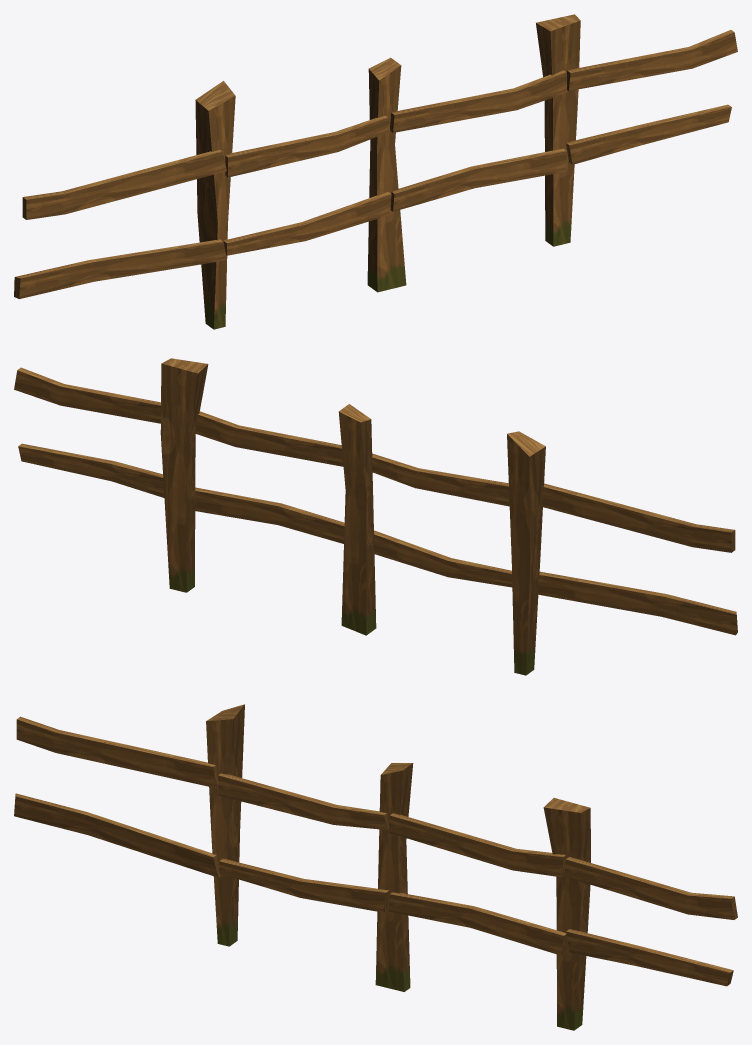
The model's file is fenceOpen.fbx.
3 views of the same model, one above another, from view 1: azimuth 30°, elevation 25°; view 2: azimuth 150°, elevation 25°; view 3: azimuth 330°, elevation 25° (orthographic).
Visible parts, largest first — view 1: FenceOpen; view 2: FenceOpen; view 3: FenceOpen.
Part boxes in pixels (left/top/right/bottom): FenceOpen: left=14, top=14, right=737, bottom=329; FenceOpen: left=14, top=358, right=737, bottom=675; FenceOpen: left=14, top=704, right=737, bottom=1030.
Size of the model in its own units: 6.54 by 2.06 by 0.2946.
